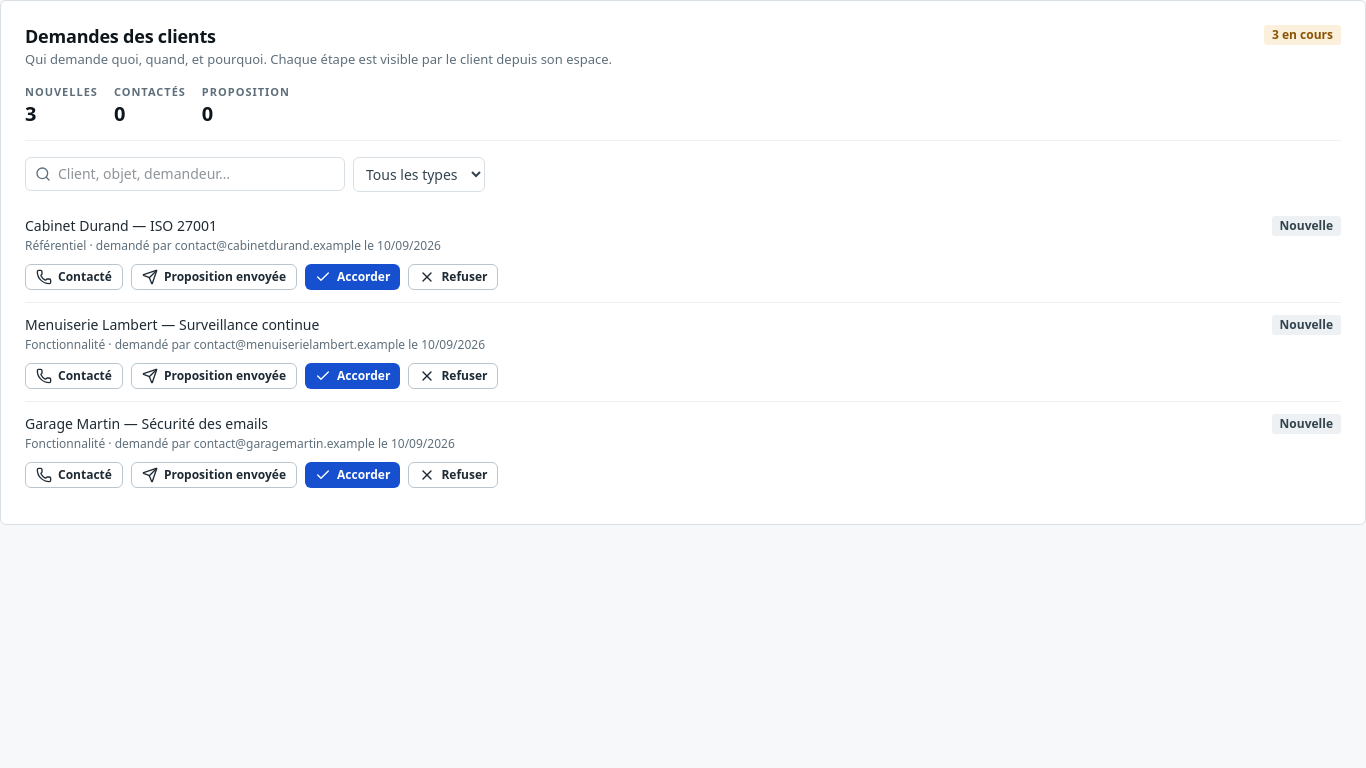
Scenario: RequestsPanel — chercher dans la file › cherche par client, sans tenir compte des accents
In the search field named "Rechercher une demande": (185, 174) [25,157,345,191], type "securite"
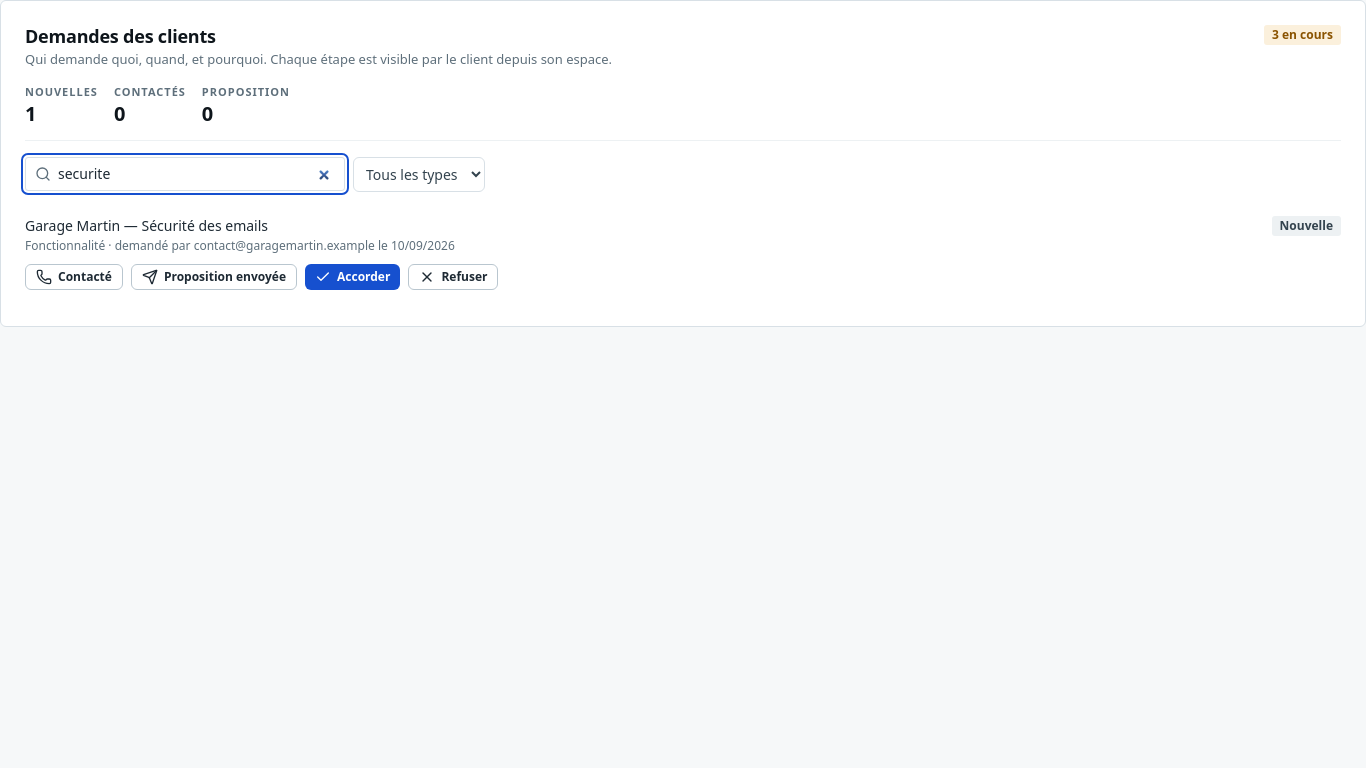
Expected: the text "Garage Martin — Sécurité des emails" is shown, [25,216,268,234]
Now the number of list items is 1, box [25,204,1341,302]
